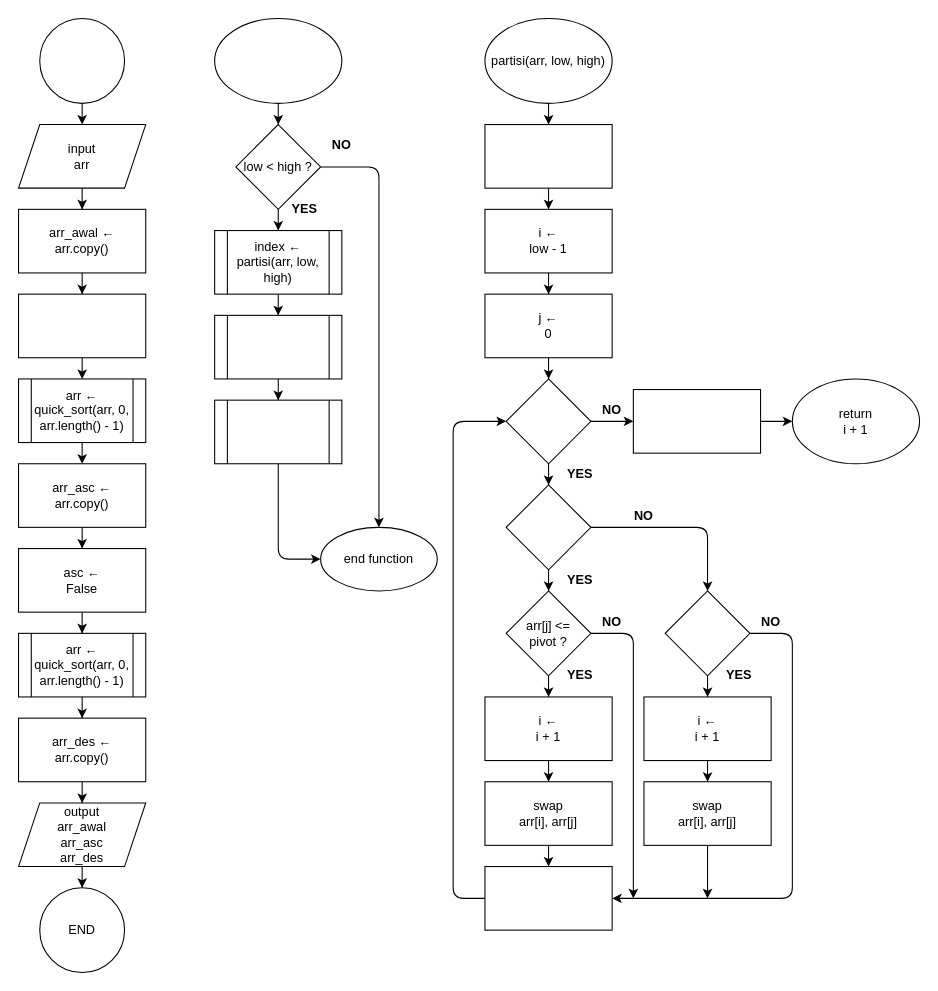
Some shapes in this 938 by 991 pixel diagram are drawn without their labels. The box of each missing label's shape, as (x1, y1, x2, y2) in pixels:
arr[j] >= pivot ?: (664, 590, 750, 676)
asc == True ?: (505, 484, 591, 570)
asc ← True: (17, 293, 146, 358)
j < high ?: (505, 378, 591, 464)
j ← j + 1: (484, 865, 612, 930)
pivot ← arr[high]: (484, 123, 612, 188)
quick_sort(arr, index + 1, high): (214, 399, 342, 464)
quick_sort(arr, low, high): (214, 17, 342, 103)
quick_sort(arr, low, index - 1): (214, 314, 342, 379)
START: (39, 17, 125, 103)
swap arr[i + 1], arr[high]: (632, 388, 761, 453)
